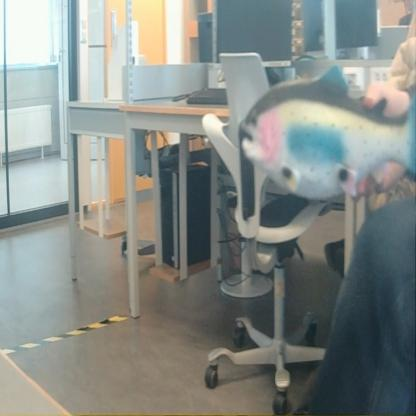rubberfish: (237, 62, 415, 204)
